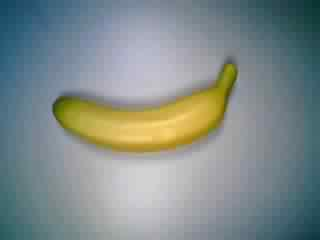banana: (45, 56, 248, 156)
